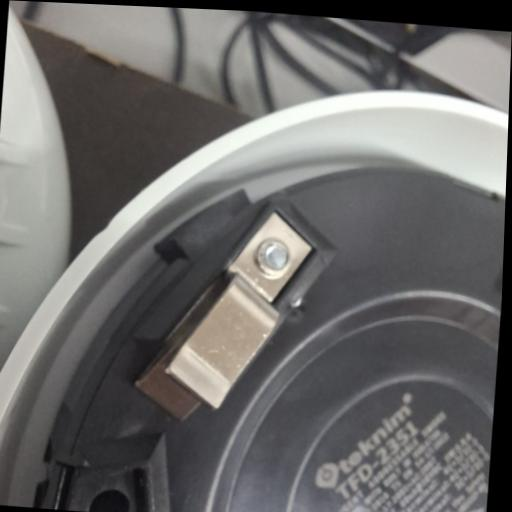yayli: (134, 196, 328, 430)
